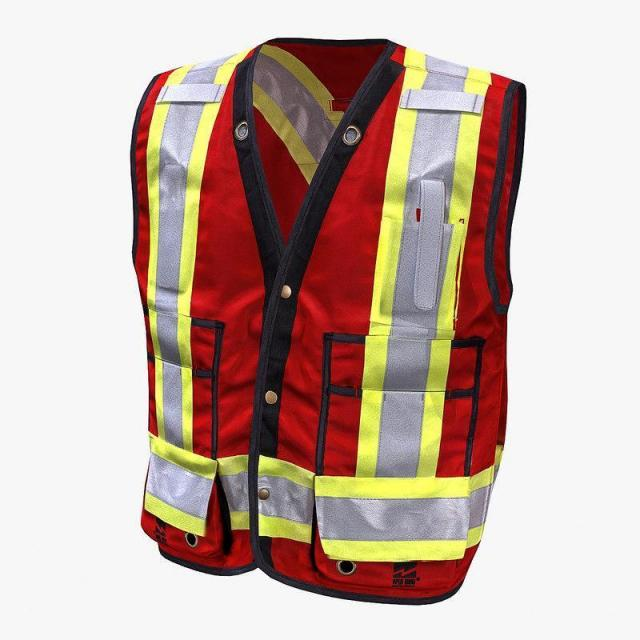vest: (127, 27, 527, 605)
